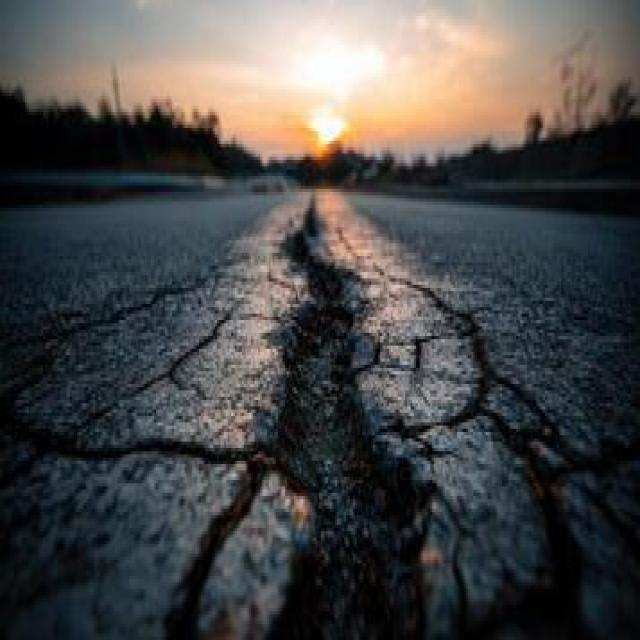road collapse: (59, 105, 555, 640)
